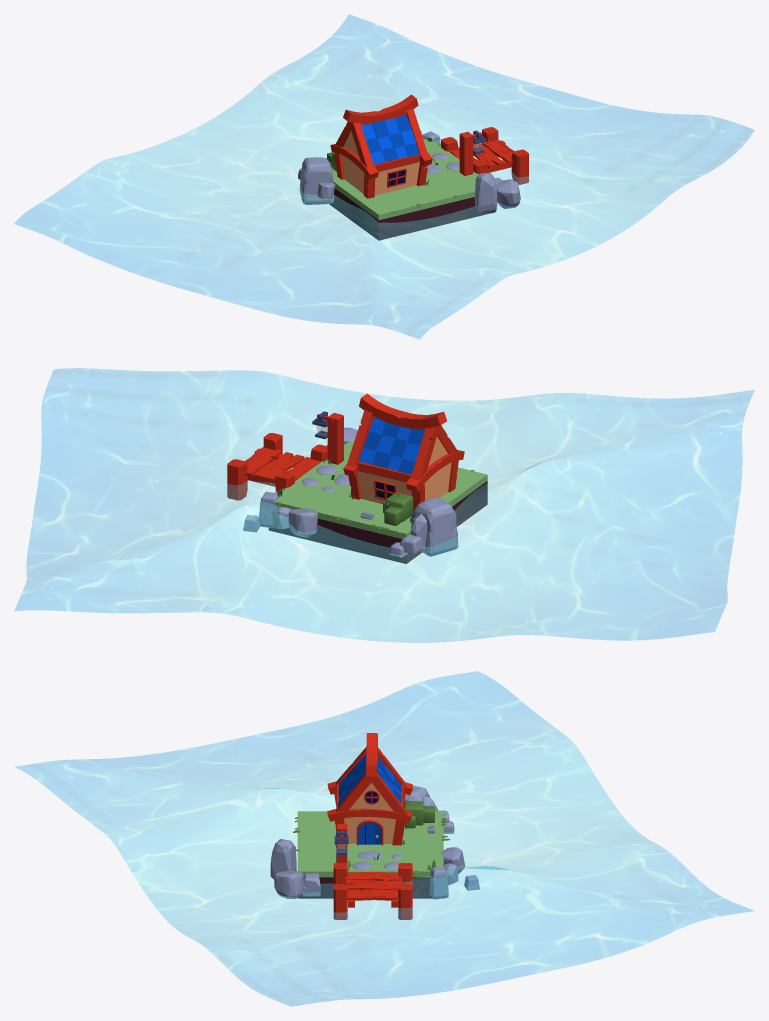
Rendered from casa.glb.
The picture shows the model from 3 angles, top to bottom: view 1: azimuth 30°, elevation 25°; view 2: azimuth 150°, elevation 25°; view 3: azimuth 270°, elevation 25°; orthographic projection. The views are drawn at different scales.
Parts seen in each view (by area): view 1: Sea, Base, PAREDES, Cubo.056, Cubo.004, Cubo.103, Cubo.046, Cubo.102, Cubo.045; view 2: Sea, Base, Cubo.056, PAREDES, Cubo.004, Cubo.046, Cubo, Cubo.055, Cubo.006, Cubo.041, Cubo.026, Cubo.005 (+4 smaller); view 3: Sea, Base, PAREDES, Cubo.103, Cubo.102, Cubo.001, puerta, Cubo.038, Cubo.052.
Part boxes in pixels (bbox=[...]): Sea: bbox=[14, 14, 754, 339]; Base: bbox=[329, 138, 496, 240]; PAREDES: bbox=[342, 130, 419, 195]; Cubo.056: bbox=[299, 157, 334, 204]; Cubo.004: bbox=[343, 94, 418, 124]; Cubo.103: bbox=[474, 172, 497, 213]; Cubo.046: bbox=[459, 131, 473, 175]; Cubo.102: bbox=[496, 179, 520, 208]; Cubo.045: bbox=[511, 149, 528, 184]; Sea: bbox=[14, 368, 754, 642]; Base: bbox=[268, 441, 487, 563]; Cubo.056: bbox=[410, 497, 458, 556]; PAREDES: bbox=[357, 436, 451, 503]; Cubo.004: bbox=[359, 393, 446, 429]; Cubo.046: bbox=[327, 413, 343, 464]; Cubo: bbox=[227, 459, 247, 500]; Cubo.055: bbox=[288, 508, 317, 537]; Cubo.006: bbox=[410, 426, 439, 480]; Cubo.041: bbox=[255, 452, 304, 481]; Cubo.026: bbox=[405, 450, 464, 492]; Cubo.005: bbox=[347, 410, 373, 466]; Sea: bbox=[15, 671, 752, 1006]; Base: bbox=[297, 811, 443, 898]; PAREDES: bbox=[344, 783, 395, 843]; Cubo.103: bbox=[270, 839, 296, 879]; Cubo.102: bbox=[274, 870, 303, 898]; Cubo.001: bbox=[327, 808, 412, 823]; puerta: bbox=[356, 820, 383, 845]; Cubo.038: bbox=[346, 889, 399, 900]; Cubo.052: bbox=[429, 866, 448, 899].
Bounding box in the file's own units: 70.84 × 10.61 × 66.1.
Materials: 13 (1 with a texture image).
